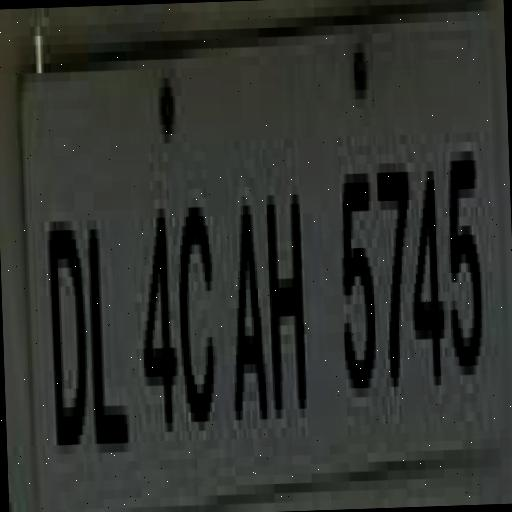number plate: (3, 10, 512, 502)
